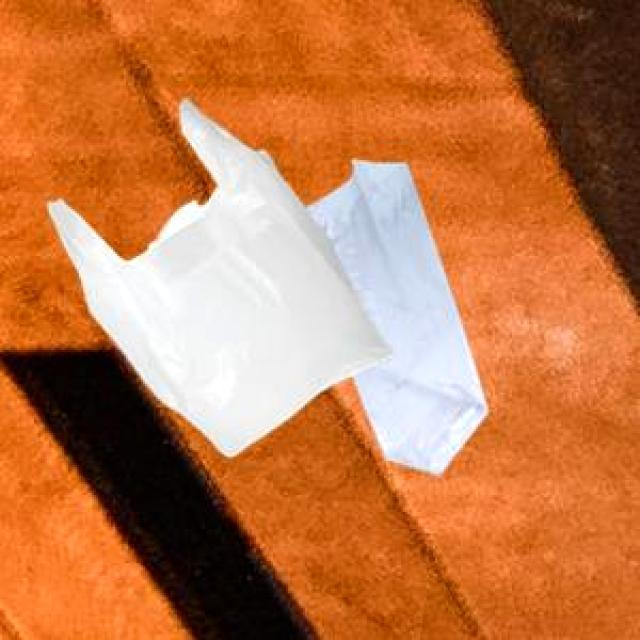Plastic_Bag: (46, 94, 392, 453), (302, 156, 486, 472)
